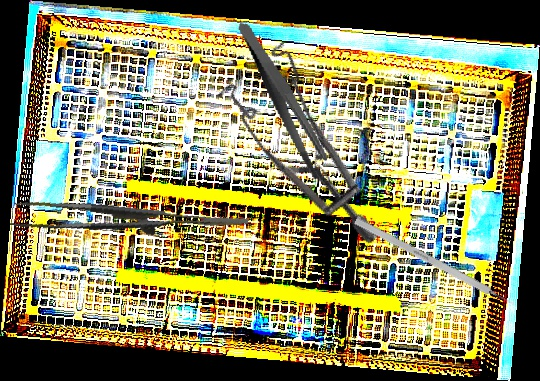Dressing Forceps: (237, 11, 332, 189)
Hook Surgical: (354, 216, 522, 312)
Speculum: (186, 25, 438, 248)
Tissue Forceps: (10, 178, 249, 266)
